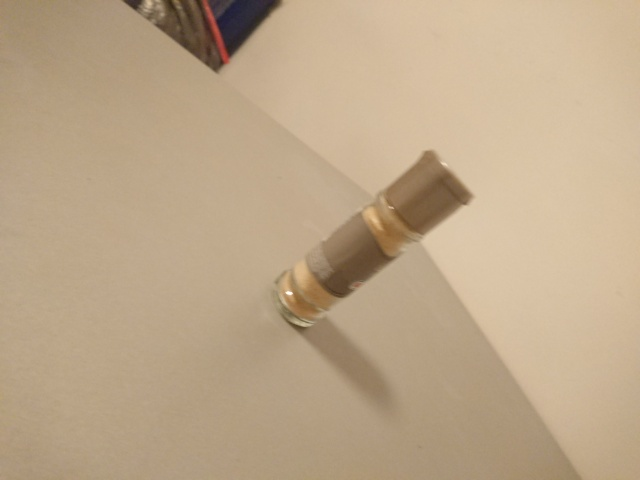Kotanyi Garlic Granules 70g: (270, 147, 476, 331)
